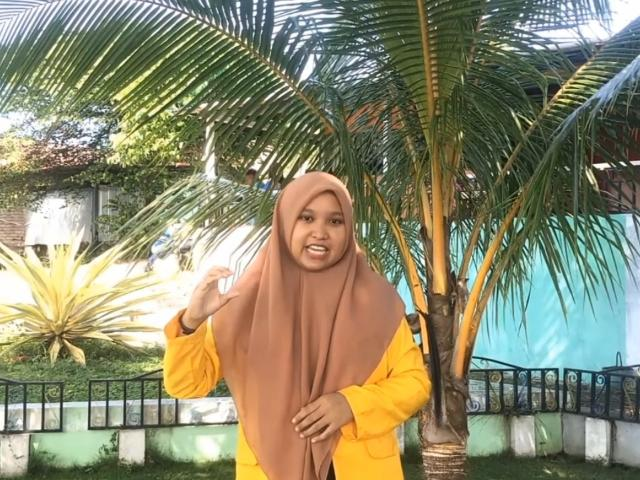C: (185, 267, 239, 321)
